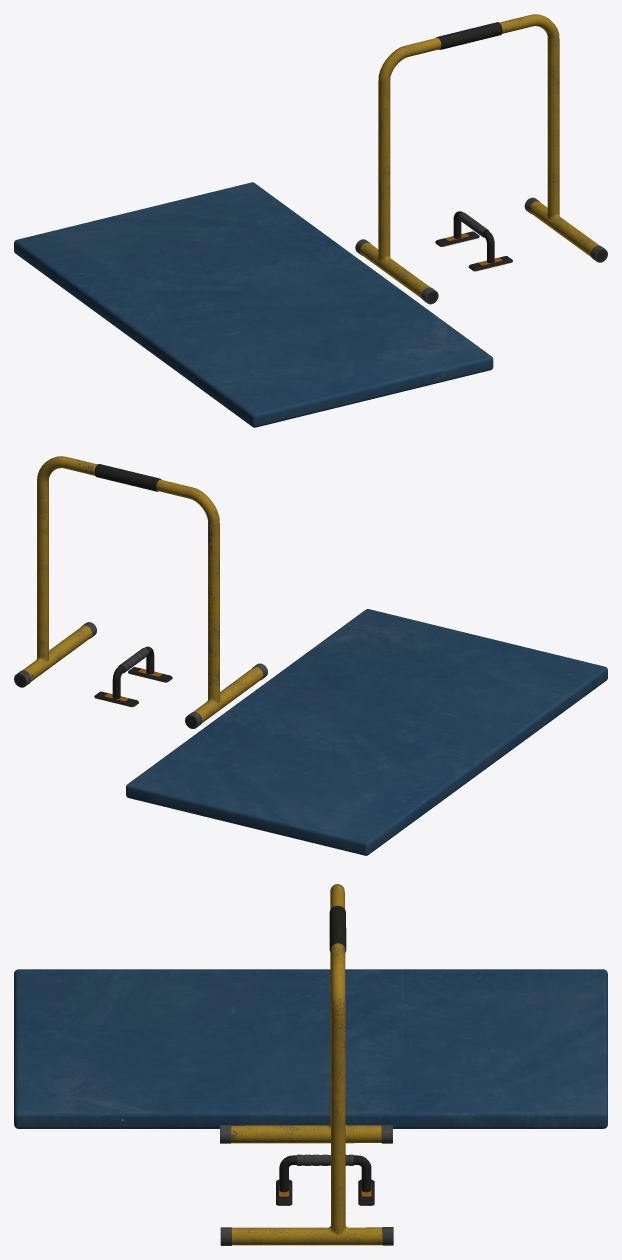
Rendered from gym_props._mat_and_push-up_equipment.glb.
3 renders of one model, top to bottom at view 1: azimuth 30°, elevation 25°; view 2: azimuth 150°, elevation 25°; view 3: azimuth 270°, elevation 25°, orthographic. The views are drawn at different scales.
Parts seen in each view (by area): view 1: Soft_matt_2, gym_frame_1, pushup_0; view 2: Soft_matt_2, gym_frame_1, pushup_0; view 3: Soft_matt_2, gym_frame_1, pushup_0.
Part boxes in pixels (box(x1,y1,x2,y2)): Soft_matt_2: box(14, 182, 493, 427); gym_frame_1: box(355, 14, 607, 304); pushup_0: box(435, 211, 512, 271); Soft_matt_2: box(126, 609, 607, 855); gym_frame_1: box(14, 456, 267, 728); pushup_0: box(94, 646, 172, 707); Soft_matt_2: box(14, 969, 607, 1128); gym_frame_1: box(220, 884, 393, 1245); pushup_0: box(276, 1154, 374, 1205).
Size of the model in its own units: 1.68 by 0.7992 by 1.59.
Materials: 9 (9 with a texture image).
